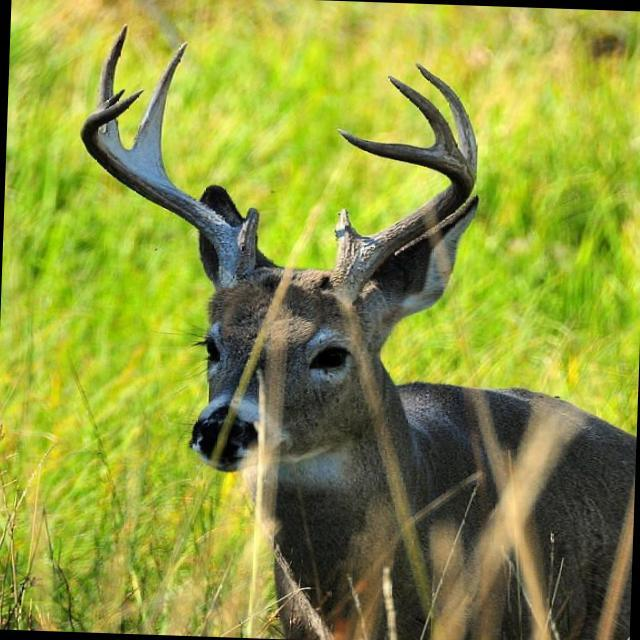L-F: (326, 126, 475, 308)
L-G1: (331, 208, 362, 251)
L-G2: (412, 57, 478, 178)
L-G3: (386, 74, 466, 158)
R-F: (78, 86, 256, 288)
R-G1: (234, 206, 261, 248)
R-G2: (129, 40, 189, 185)
